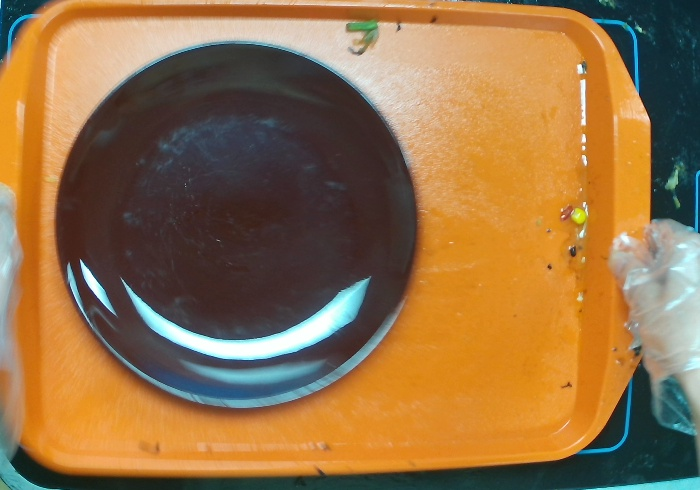HZYJPL-Ka_Fei_Yuan_Pan: (45, 35, 427, 417)
